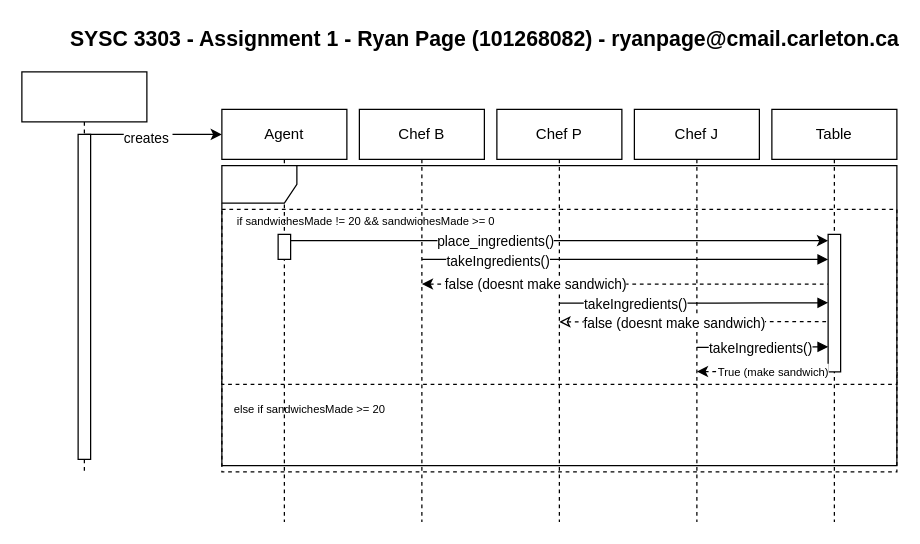
The diagram is 920 pixels wide and 544 high, and some of its shapes have lost their labels. Each missing label, with the box of its shape:
loop: (221, 164, 897, 466)
Main: (21, 71, 147, 472)
